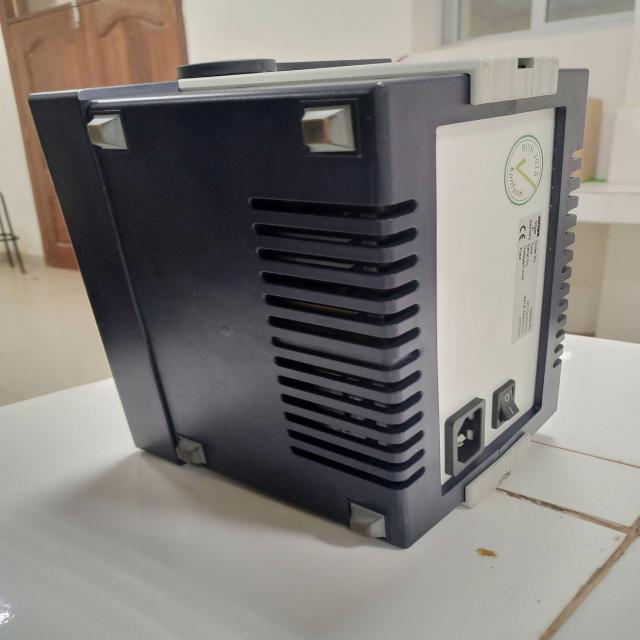DC Constant Power Supply 0-600V: (10, 43, 600, 554)
